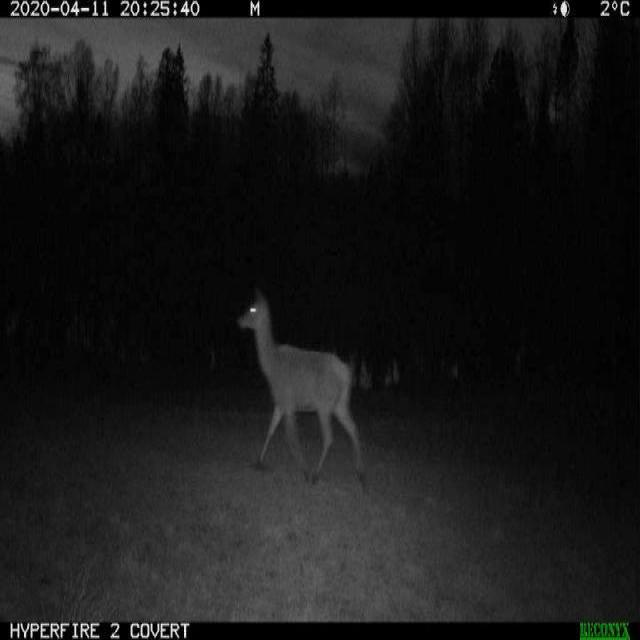deer: (227, 281, 366, 490)
